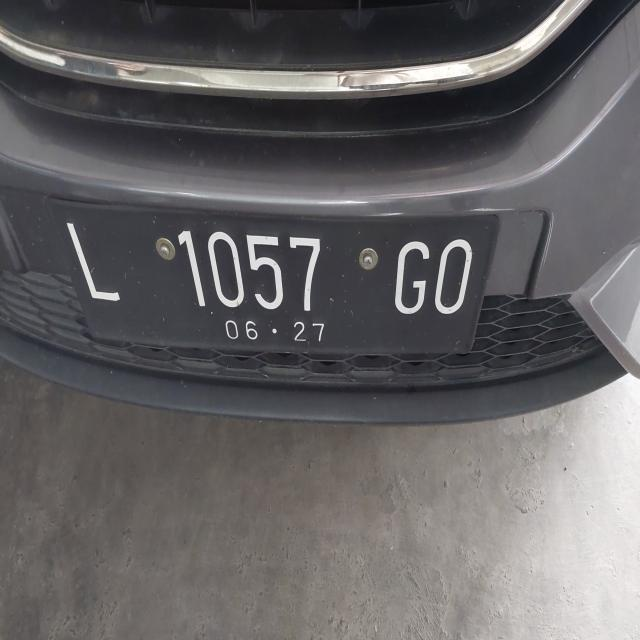0: (203, 228, 250, 310)
1: (173, 216, 206, 316)
5: (246, 225, 285, 321)
7: (288, 226, 324, 316)
G: (392, 236, 430, 320)
L: (62, 220, 124, 312)
O: (434, 240, 472, 316)
